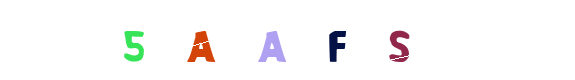5: (94, 0, 174, 80)
A: (238, 0, 318, 80), (246, 0, 326, 80)
F: (248, 0, 328, 80)
S: (295, 0, 375, 80)
